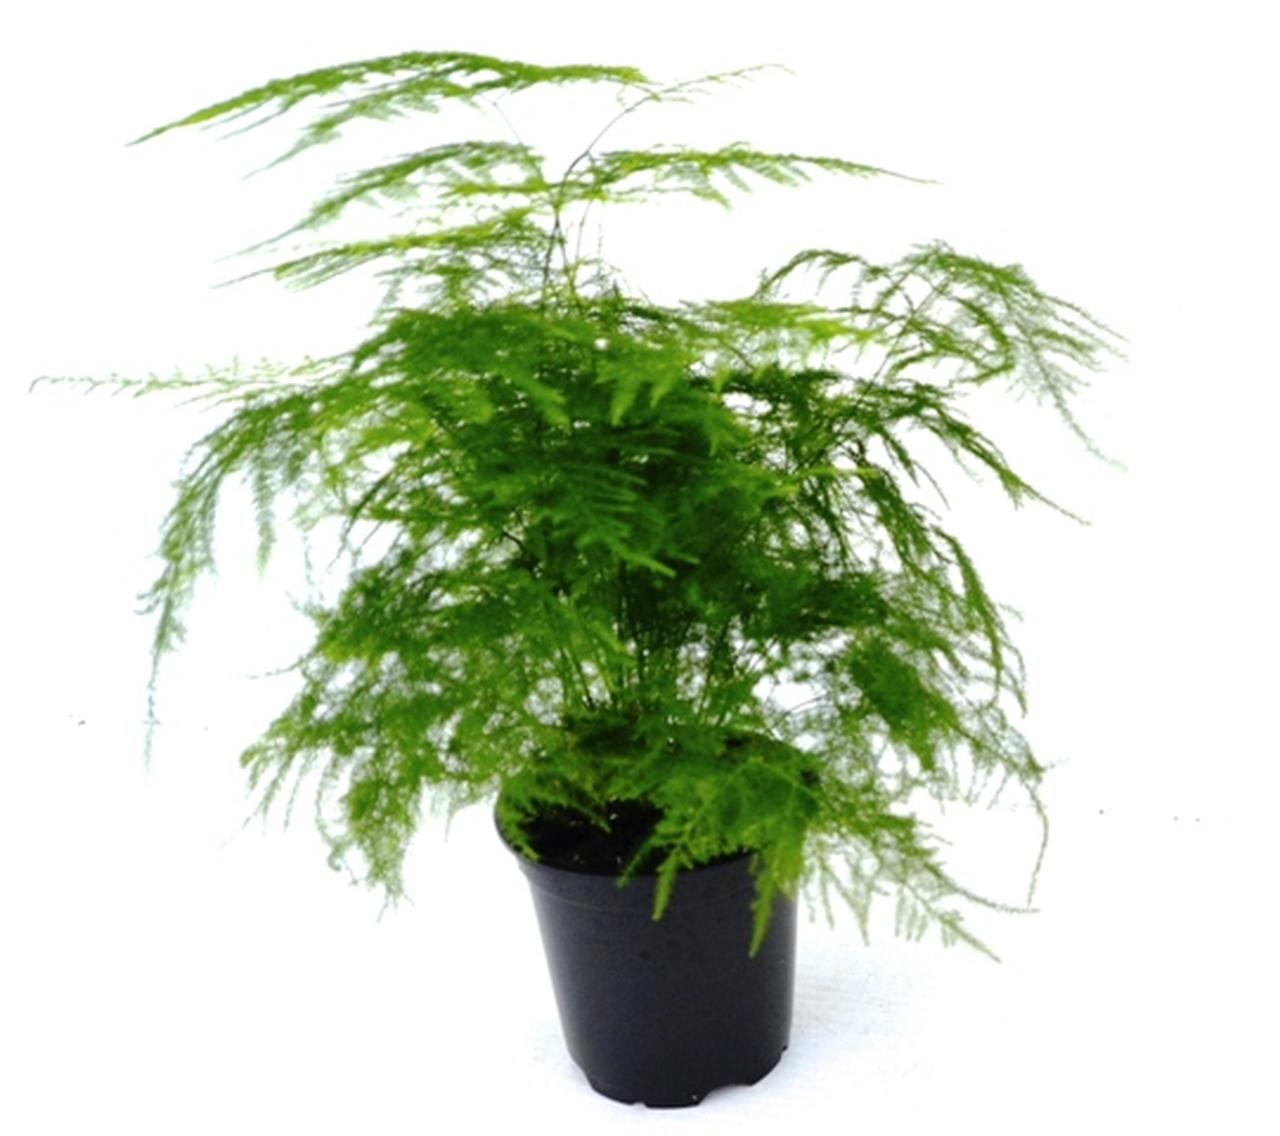flowerPot: (473, 769, 866, 1124)
